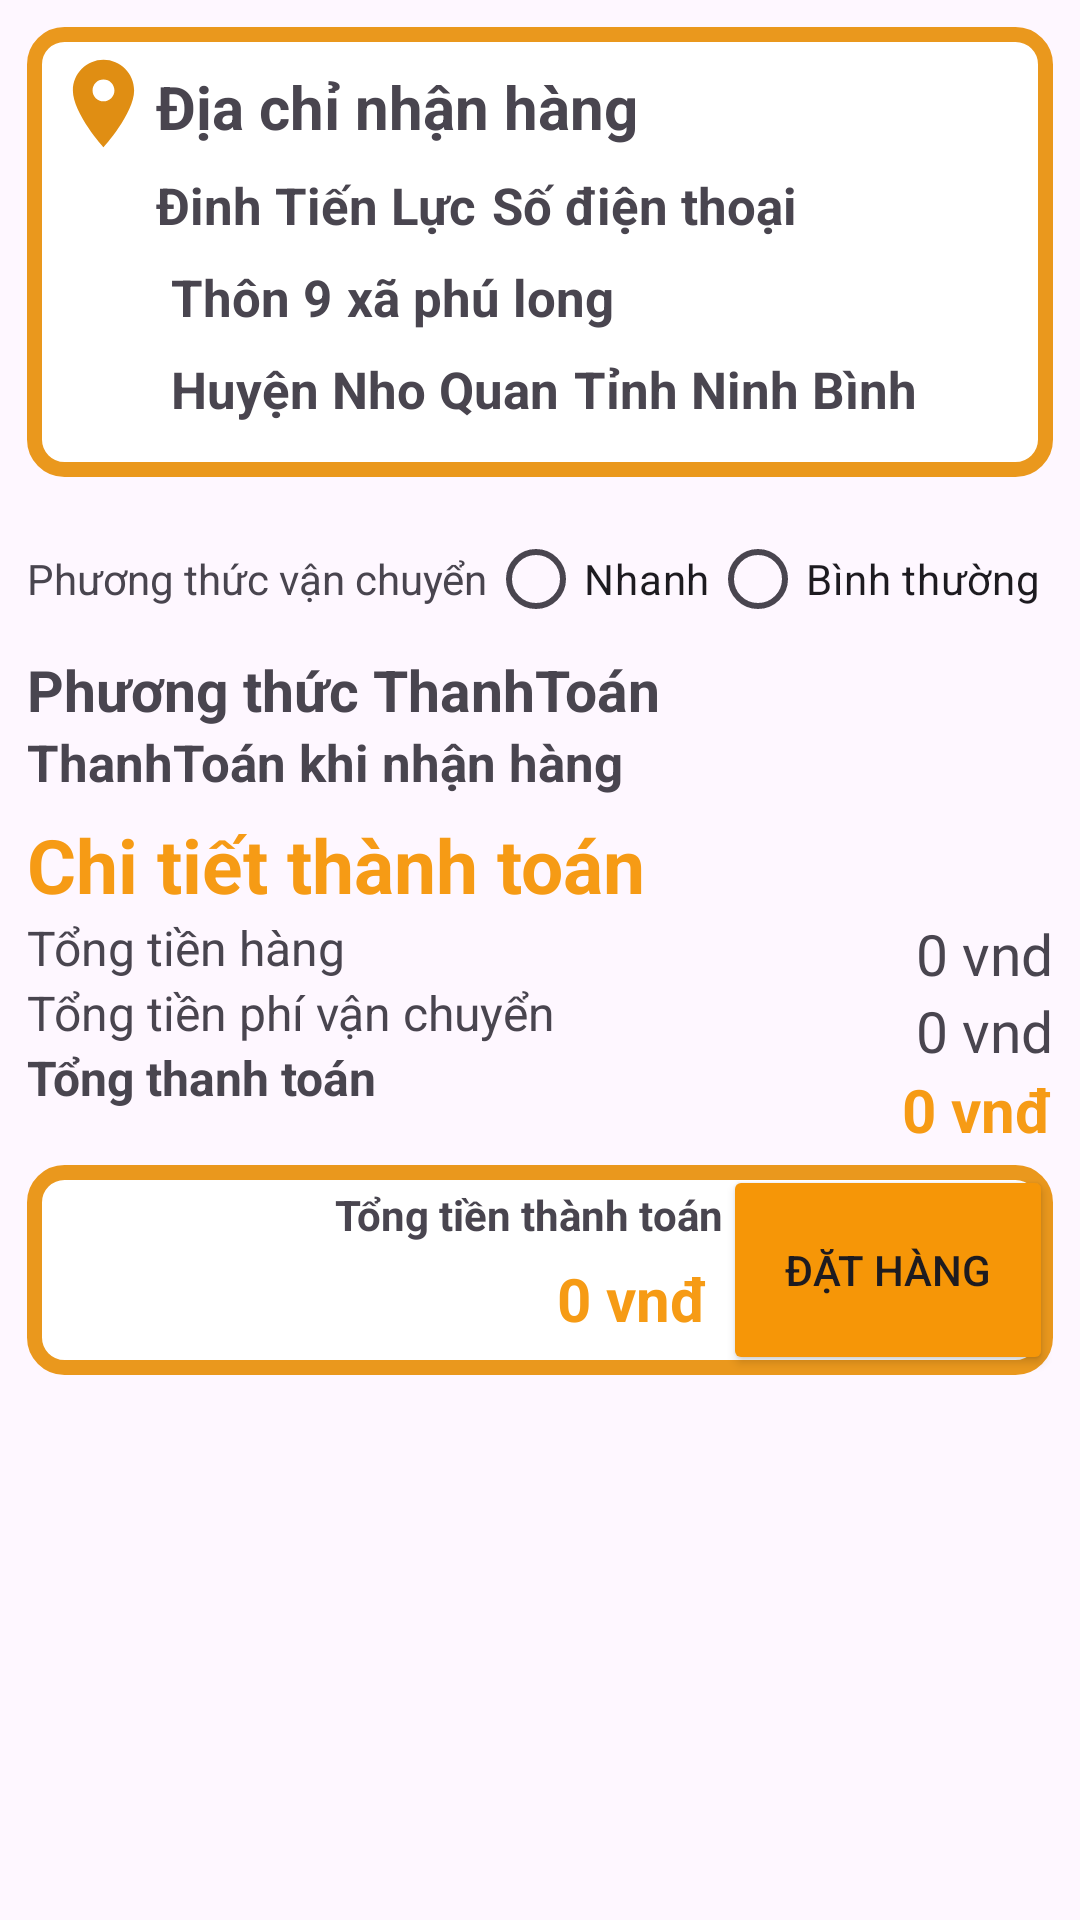

Point at icon controls on the screen. Image size 1080×1920, points as (x=x, y=y).
location on: (x=103, y=103)
